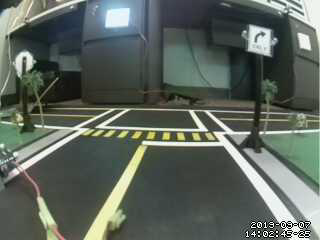Right_only_sign: (248, 22, 271, 57)
